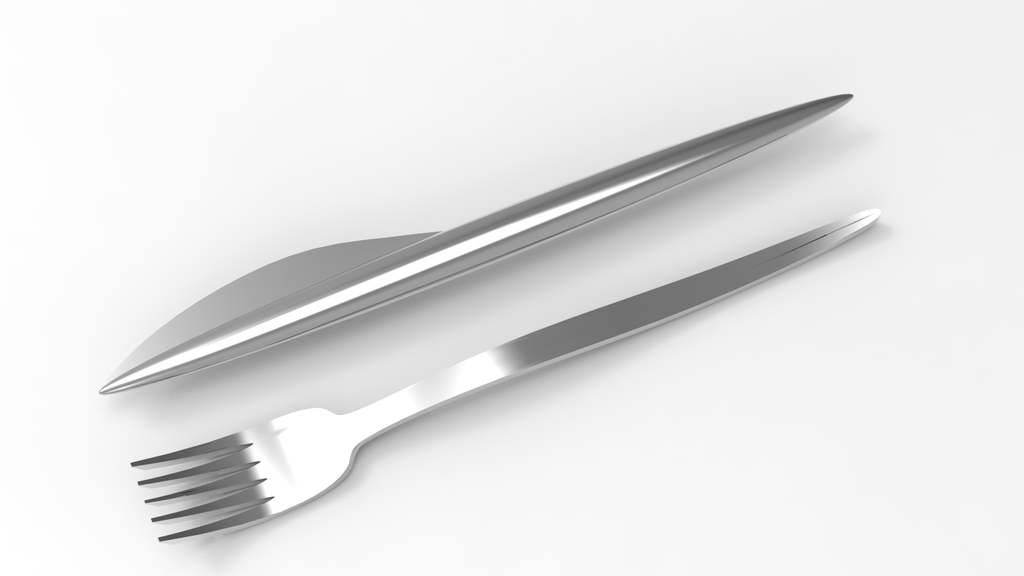fork: (128, 207, 879, 545)
